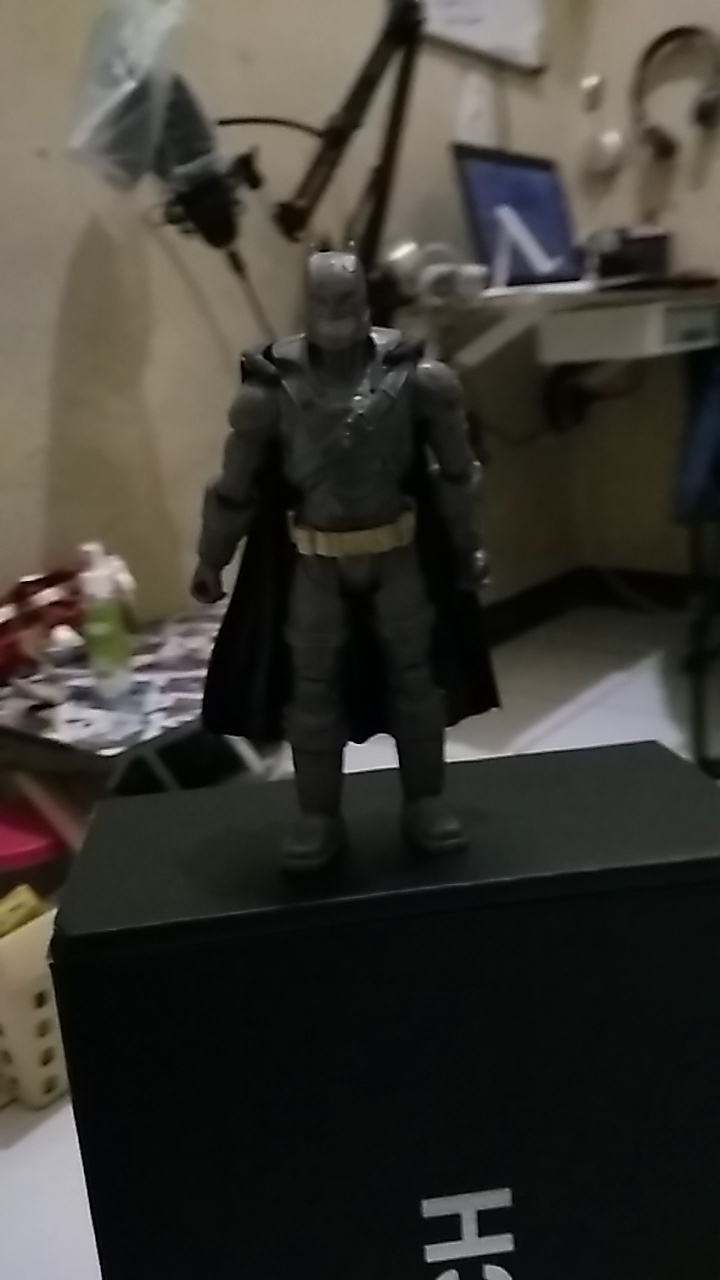batman: (200, 255, 496, 862)
